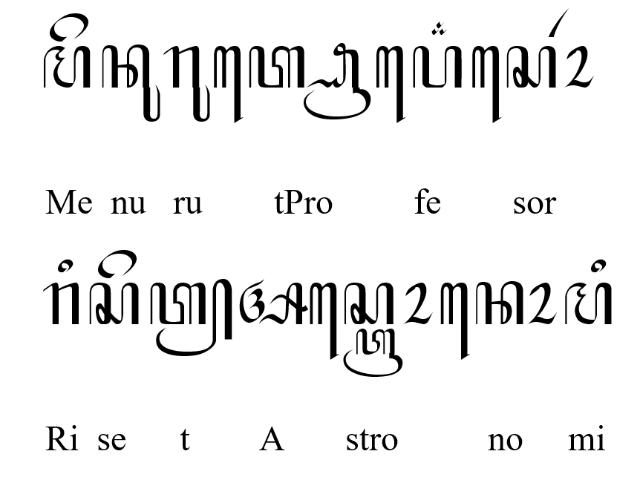-t: (149, 278, 233, 357)
A: (240, 279, 308, 325)
Pr: (303, 41, 371, 119)
_r1: (548, 8, 570, 38)
alt: (432, 20, 446, 36)
e: (96, 249, 138, 279), (48, 12, 88, 42)
e1: (439, 282, 471, 360), (310, 280, 340, 362), (213, 44, 243, 124), (375, 44, 405, 124), (471, 44, 501, 124)
i: (56, 258, 74, 274), (590, 258, 606, 274)
m: (43, 44, 91, 90), (564, 282, 612, 326)
n: (475, 280, 525, 326)
nu: (101, 44, 161, 122)
o: (564, 44, 594, 88), (404, 281, 434, 325), (527, 282, 557, 324)
p: (412, 44, 463, 90)
r: (42, 282, 78, 326)
ru: (163, 45, 211, 123)
s: (89, 282, 140, 326), (507, 45, 557, 89), (344, 282, 394, 326)
t: (248, 46, 306, 90)
tr: (343, 329, 403, 377)
